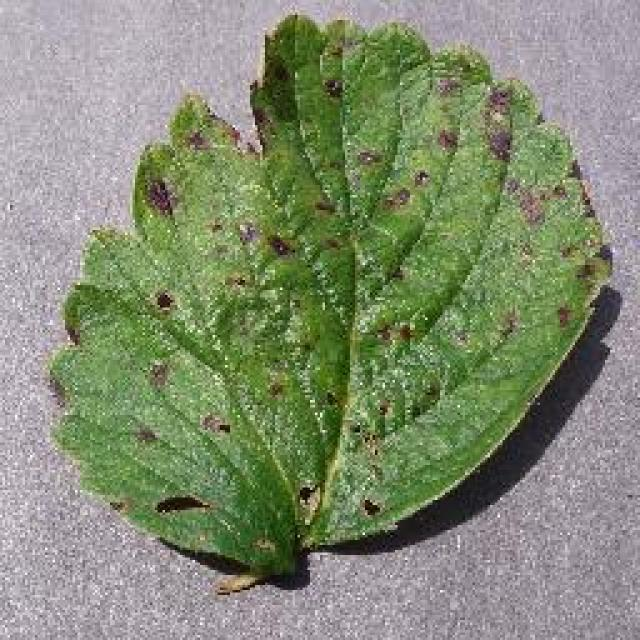Strawberry leaf scorch: (145, 138, 480, 470)
